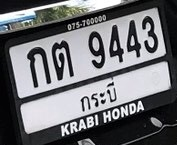txt01: (26, 45, 52, 89)
txt16: (51, 39, 75, 82)
